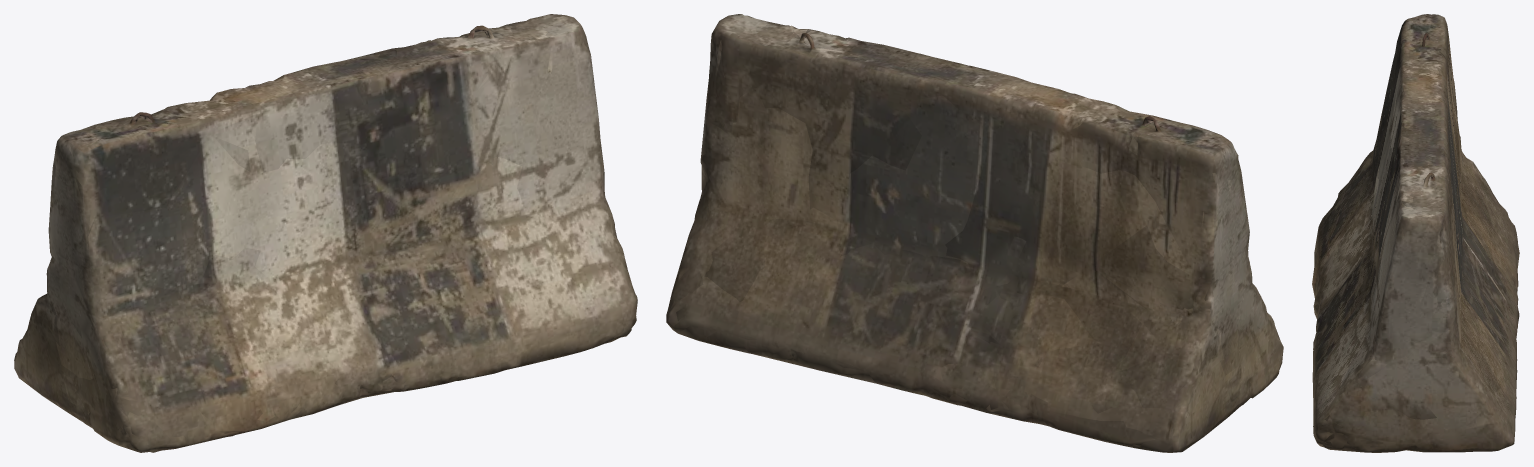
File: concrete_road_barrier.glb
The picture shows the model from 3 angles, left to right: view 1: azimuth 30°, elevation 25°; view 2: azimuth 150°, elevation 25°; view 3: azimuth 270°, elevation 25°; orthographic projection. The views are drawn at different scales.
Parts seen in each view (by area): view 1: concrete_road_barrier, concrete_road_barrier_lo; view 2: concrete_road_barrier, concrete_road_barrier_lo; view 3: concrete_road_barrier, concrete_road_barrier_lo.
Boxes of the visible parts, x1,y1,x2,y2 form: concrete_road_barrier: (14, 14, 637, 452); concrete_road_barrier_lo: (15, 18, 637, 452); concrete_road_barrier: (666, 14, 1283, 452); concrete_road_barrier_lo: (666, 16, 1283, 451); concrete_road_barrier: (1312, 14, 1519, 452); concrete_road_barrier_lo: (1312, 14, 1519, 452).
Bounding box in the file's own units: 1.54 × 0.8304 × 0.6387.
1 material, 1 textured.
